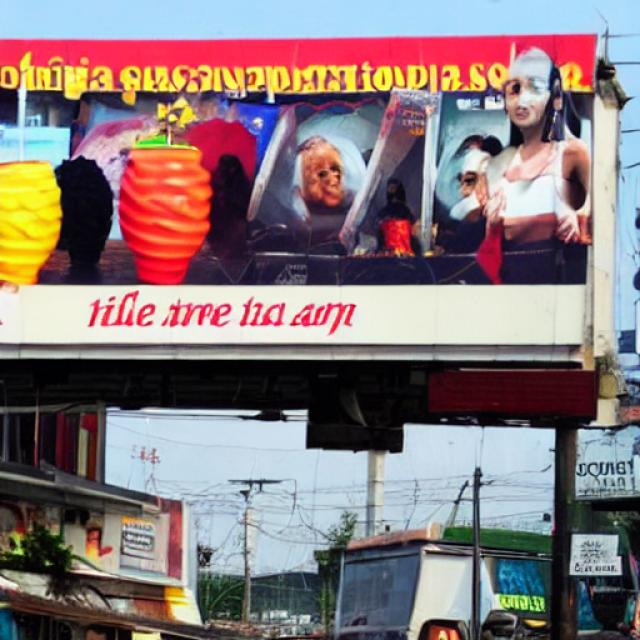Billboard: (0, 26, 602, 341)
